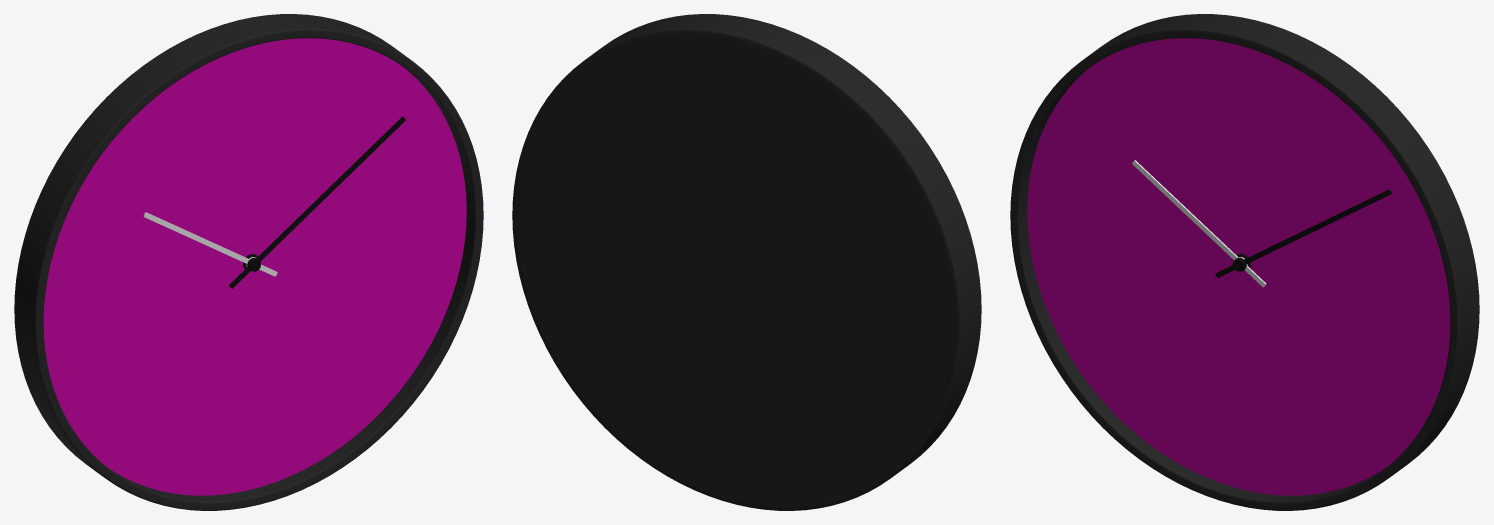
The model's file is saat006 (2).fbx.
3 views of the same model, side by side, from view 1: azimuth 30°, elevation 25°; view 2: azimuth 150°, elevation 25°; view 3: azimuth 330°, elevation 25° (orthographic).
Parts seen in each view (by area): view 1: saat6.004, saat6, saat6.001, saat6.002; view 2: saat6; view 3: saat6.004, saat6, saat6.001, saat6.002.
Boxes of the visible parts, bbox=[...] form: saat6.004: bbox=[43, 38, 466, 495]; saat6: bbox=[14, 14, 483, 510]; saat6.001: bbox=[229, 116, 405, 288]; saat6.002: bbox=[143, 212, 277, 276]; saat6: bbox=[512, 14, 981, 510]; saat6.004: bbox=[1027, 38, 1450, 495]; saat6: bbox=[1010, 14, 1479, 510]; saat6.001: bbox=[1215, 189, 1391, 277]; saat6.002: bbox=[1132, 160, 1266, 287].
Bounding box in the file's own units: 41.51 × 41.51 × 3.49.
